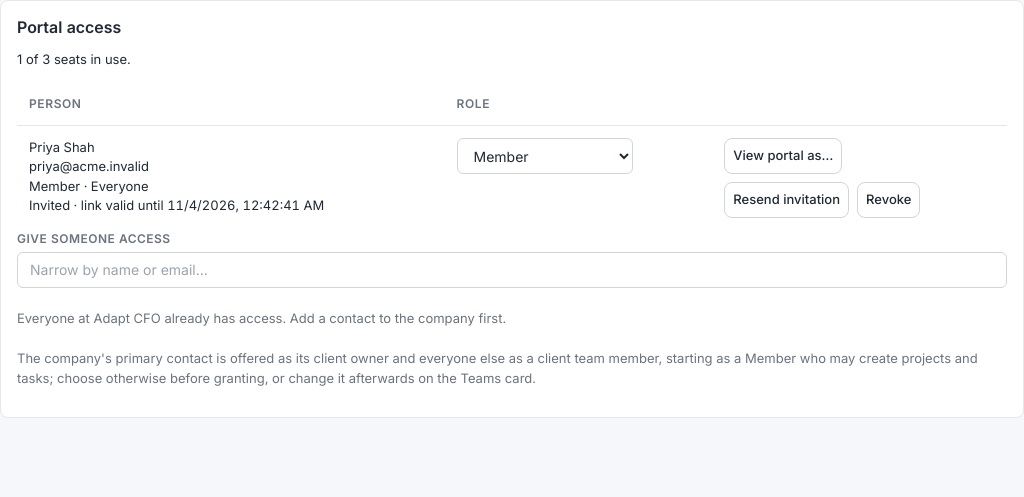
Test case: Resend invitation, on a portal-access row › says so when the email could not be sent
What coordinates should you click on to do the following:
click the button "Resend invitation"
I would click on:
 (787, 200)
Its box is 724,182 -> 849,218.
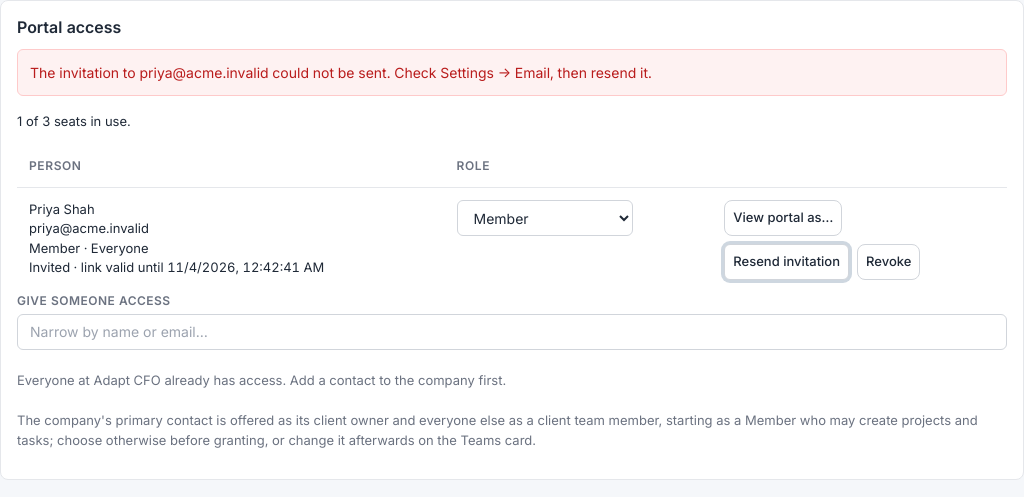
expect the text "could not be sent" is shown: met, box 30,64 -> 652,81
